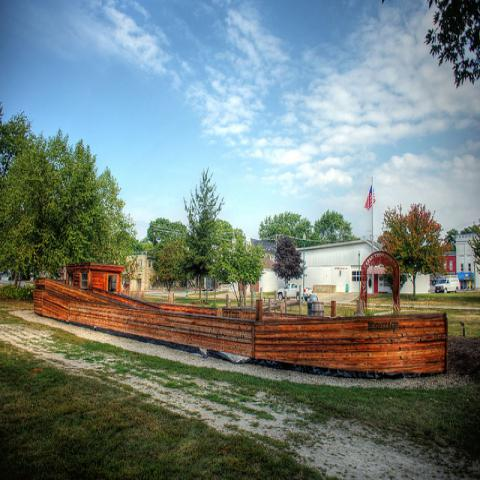car: (436, 278, 460, 294)
truck: (434, 277, 461, 294), (277, 283, 300, 301)
